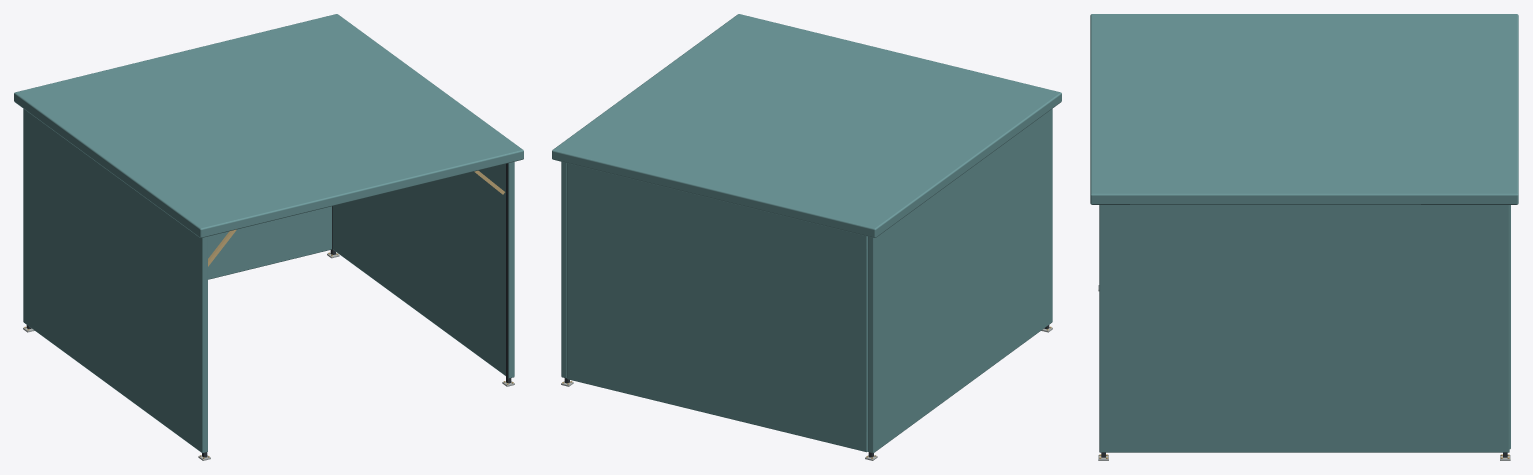
File: abandoned-cinema-and-projection-booth-abandoned-cinema-103a8777__29686.glb
3 renders of one model, left to right at view 1: azimuth 30°, elevation 25°; view 2: azimuth 150°, elevation 25°; view 3: azimuth 270°, elevation 25°, orthographic. The views are drawn at different scales.
Visible parts, largest first — view 1: abandoned-cinema-and-projection-booth-foyer-canopy; view 2: abandoned-cinema-and-projection-booth-foyer-canopy; view 3: abandoned-cinema-and-projection-booth-foyer-canopy.
Part boxes in pixels (left/top/right/bottom): abandoned-cinema-and-projection-booth-foyer-canopy: left=14, top=14, right=523, bottom=460; abandoned-cinema-and-projection-booth-foyer-canopy: left=552, top=14, right=1061, bottom=460; abandoned-cinema-and-projection-booth-foyer-canopy: left=1090, top=14, right=1518, bottom=460.
Bounding box in the file's own units: 4.8 × 3.34 × 4.8.
